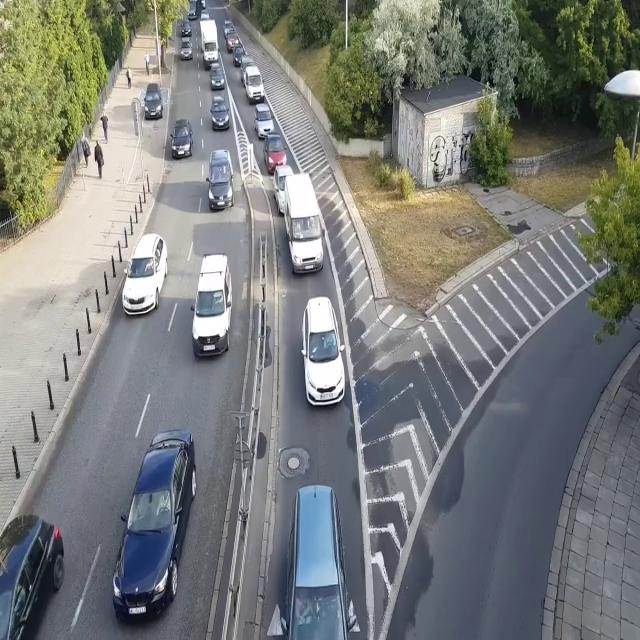car: (111, 427, 198, 626), (279, 481, 357, 640), (0, 512, 65, 640), (300, 297, 346, 408), (122, 232, 169, 315), (262, 133, 288, 175), (273, 166, 295, 215), (170, 120, 194, 159), (254, 103, 275, 139), (143, 83, 163, 120), (210, 95, 230, 132), (209, 63, 225, 90), (180, 36, 193, 62), (232, 44, 246, 68), (225, 30, 239, 51), (222, 19, 236, 38), (181, 21, 192, 37)
truck: (199, 20, 220, 71)
van: (190, 252, 233, 356), (284, 172, 326, 275), (206, 149, 235, 209), (245, 66, 265, 106), (240, 56, 256, 86), (187, 0, 202, 22)
